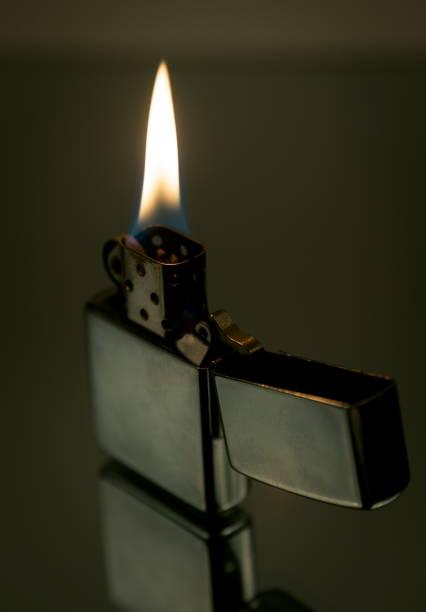Fire: (132, 58, 193, 231)
